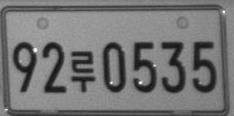0: (102, 41, 126, 93)
2: (41, 40, 66, 93)
3: (160, 41, 186, 93)
5: (191, 41, 217, 93), (132, 41, 157, 92)
9: (11, 40, 37, 93)
루: (70, 50, 96, 93)
